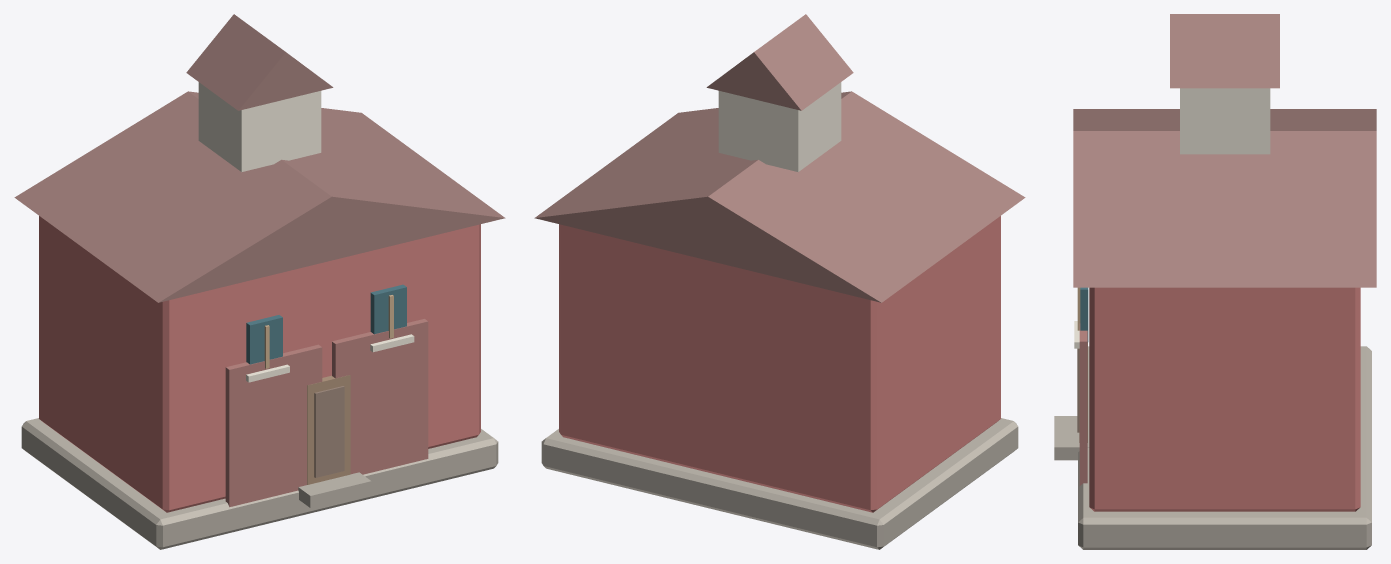
Rendered from red_barn_cupola_near-kVijmK0O.glb.
3 renders of one model, left to right at view 1: azimuth 30°, elevation 25°; view 2: azimuth 150°, elevation 25°; view 3: azimuth 270°, elevation 25°, orthographic. The views are drawn at different scales.
Parts seen in each view (by area): view 1: red_barn_cupola_near; view 2: red_barn_cupola_near; view 3: red_barn_cupola_near.
Part boxes in pixels (left/top/right/bottom): red_barn_cupola_near: left=14, top=14, right=505, bottom=549; red_barn_cupola_near: left=534, top=14, right=1025, bottom=549; red_barn_cupola_near: left=1054, top=14, right=1376, bottom=549.
Bounding box in the file's own units: 6.55 × 7.69 × 4.99.
